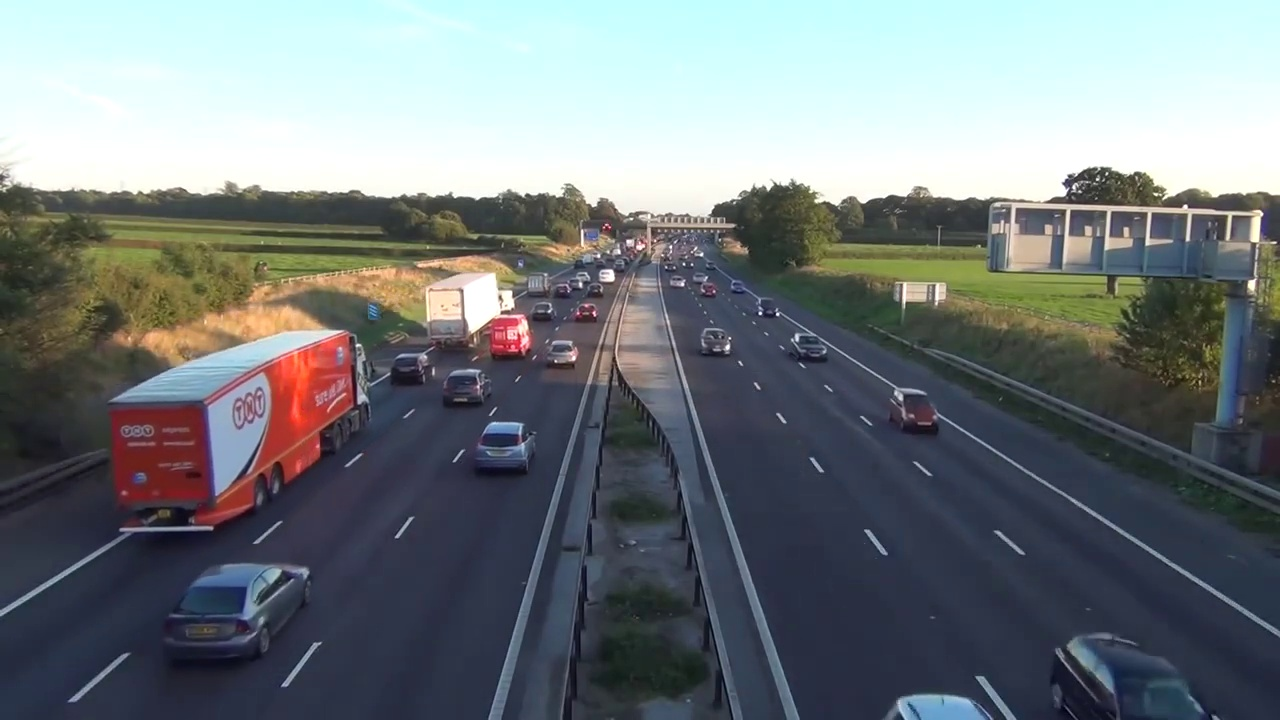bus: (162, 563, 314, 666), (1049, 632, 1223, 720), (883, 689, 997, 720), (474, 421, 535, 475), (889, 384, 940, 433), (444, 369, 494, 409), (390, 354, 435, 386), (792, 330, 830, 363), (697, 325, 734, 355), (548, 342, 580, 369), (753, 297, 782, 318), (574, 302, 598, 321), (531, 302, 554, 320), (699, 283, 717, 297), (730, 280, 745, 294)
car: (117, 330, 368, 539), (426, 273, 507, 350)
minibus: (491, 315, 536, 359)
